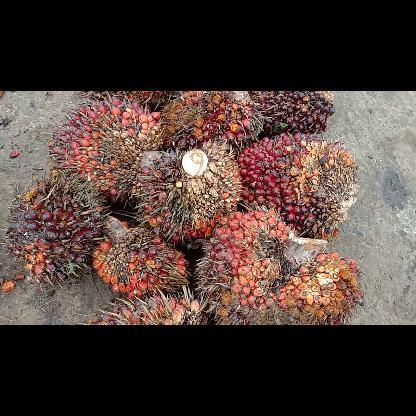TBS masak: (199, 208, 363, 324), (236, 134, 358, 240), (52, 98, 164, 202), (8, 180, 112, 284), (134, 140, 240, 242), (92, 214, 194, 292), (156, 91, 260, 145), (84, 296, 207, 324), (257, 91, 336, 133)
